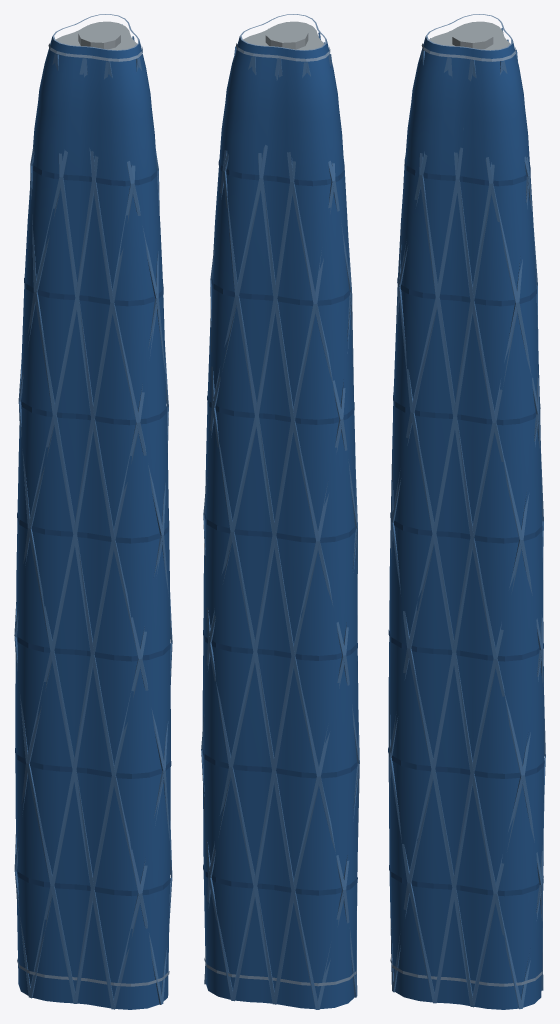
Rendered from guangzhou-ifc.glb.
3 views of the same model, side by side, from view 1: azimuth 30°, elevation 25°; view 2: azimuth 150°, elevation 25°; view 3: azimuth 270°, elevation 25° (orthographic).
Visible parts, largest first — view 1: Guangzhou International Finance Center; view 2: Guangzhou International Finance Center; view 3: Guangzhou International Finance Center.
Part boxes in pixels (x1,y1,x2,y2): Guangzhou International Finance Center: (14,14,172,1009); Guangzhou International Finance Center: (201,14,359,1009); Guangzhou International Finance Center: (388,14,545,1009).
Bounding box in the file's own units: 65.96 × 439 × 66.25.
